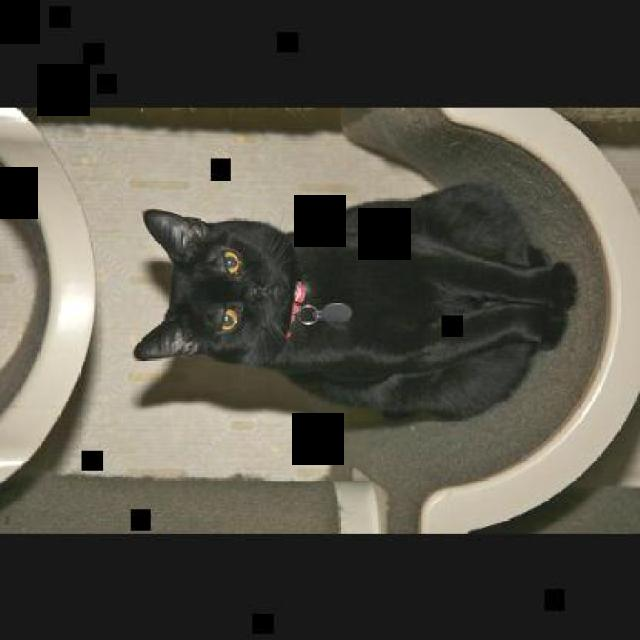unauthorized: (132, 182, 578, 420)
